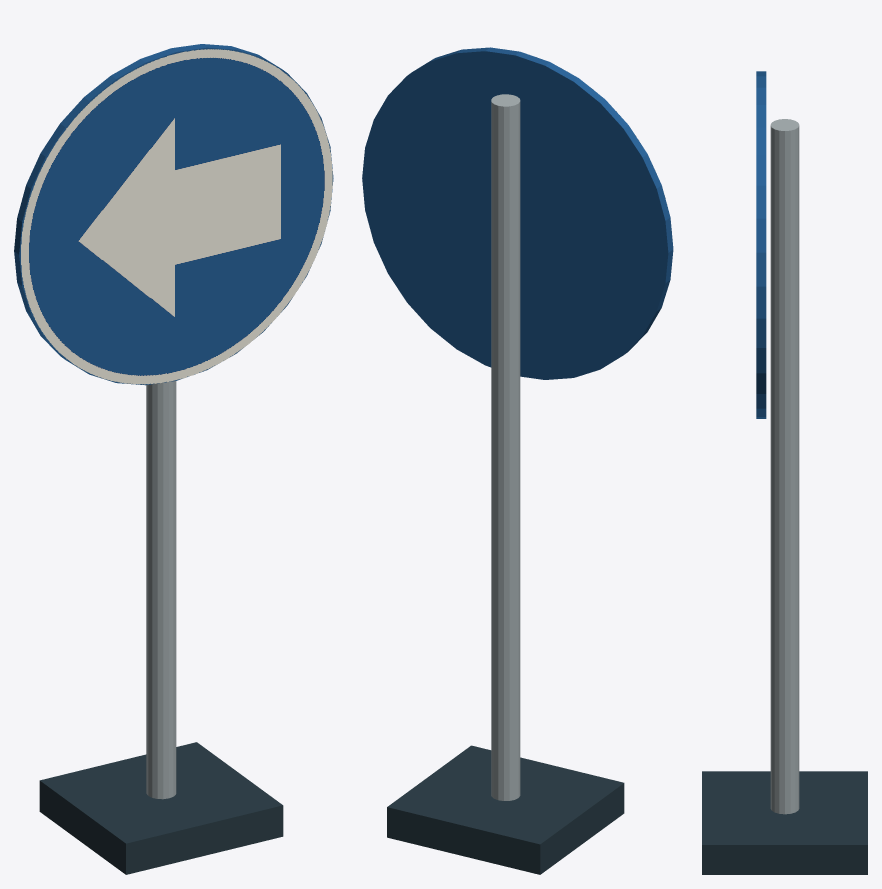
The model's file is scendance-plan-turn-left.glb.
3 renders of one model, left to right at view 1: azimuth 30°, elevation 25°; view 2: azimuth 150°, elevation 25°; view 3: azimuth 270°, elevation 25°, orthographic. The views are drawn at different scales.
Bounding box in the file's own units: 0.84 × 2 × 0.4.
Materials: 4 (1 with a texture image).
